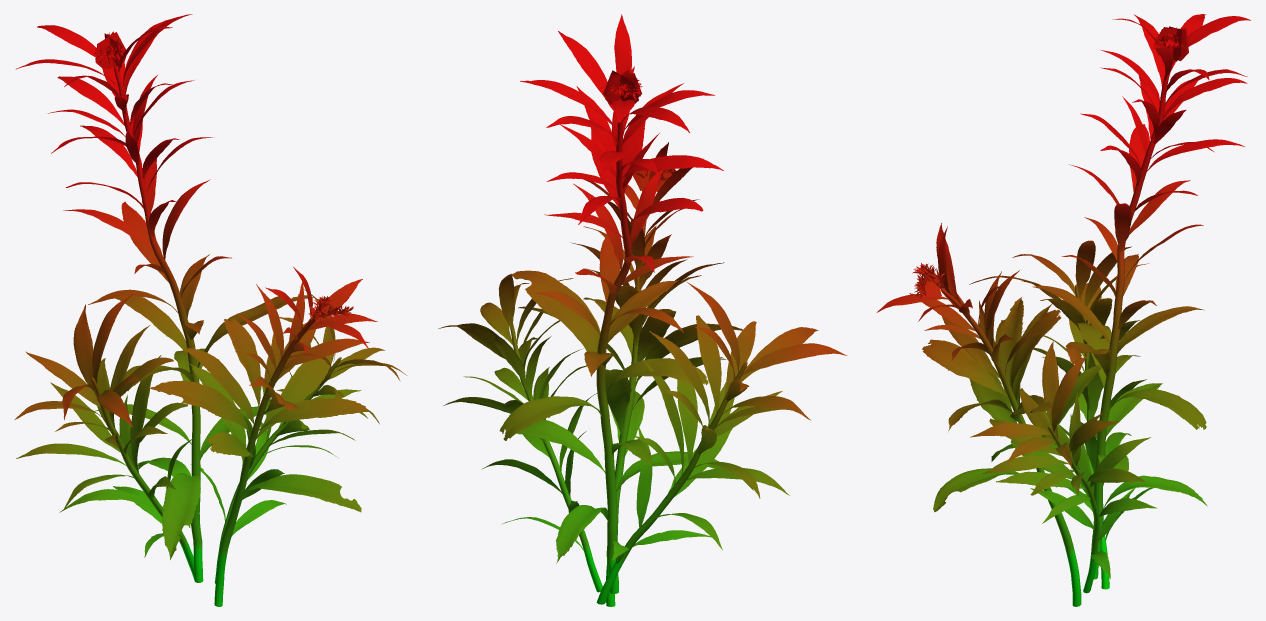
The model's file is Goldenrods_LOD0_Var5.fbx.
The picture shows the model from 3 angles, left to right: view 1: azimuth 30°, elevation 25°; view 2: azimuth 150°, elevation 25°; view 3: azimuth 270°, elevation 25°; orthographic projection. The views are drawn at different scales.
Visible parts, largest first — view 1: _hask_Var5_LOD0; view 2: _hask_Var5_LOD0; view 3: _hask_Var5_LOD0.
Boxes of the visible parts, x1,y1,x2,y2 form: _hask_Var5_LOD0: [14, 14, 406, 606]; _hask_Var5_LOD0: [438, 14, 847, 606]; _hask_Var5_LOD0: [876, 14, 1250, 606].
Size of the model in its own units: 64.16 by 97.2 by 57.82.
